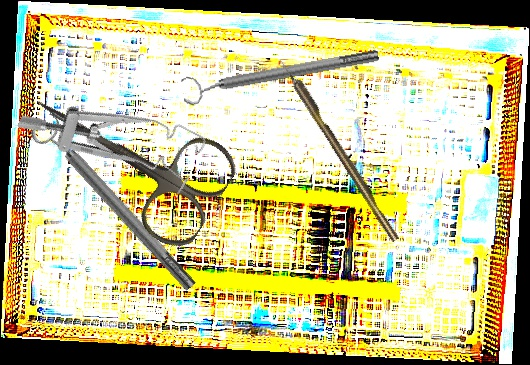Fixation Ring: (27, 110, 204, 300), (179, 40, 382, 108)
Hook Surgical: (276, 54, 401, 244)
Iris Scissors: (7, 50, 245, 258)
Speculum: (15, 58, 210, 209)
